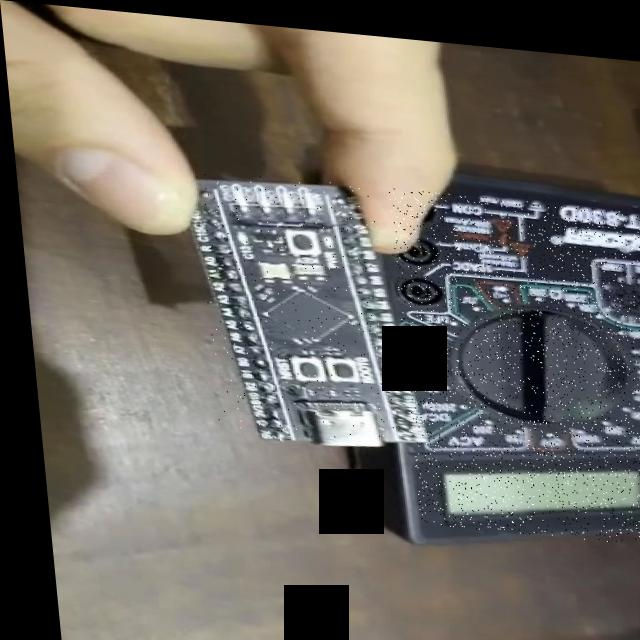multimeter: (386, 180, 640, 536)
stm32: (191, 166, 391, 439)
